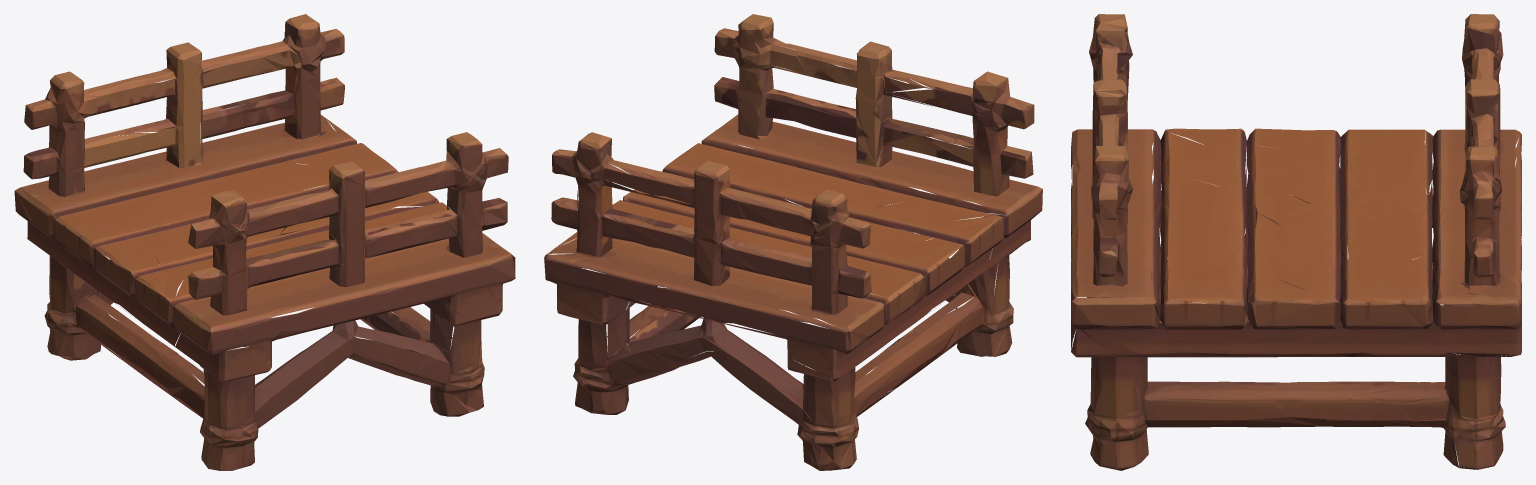
Rendered from bridge.glb.
3 views of the same model, side by side, from view 1: azimuth 30°, elevation 25°; view 2: azimuth 150°, elevation 25°; view 3: azimuth 270°, elevation 25° (orthographic). The views are drawn at different scales.
Parts seen in each view (by area): view 1: geometry_0; view 2: geometry_0; view 3: geometry_0.
Boxes of the visible parts, x1,y1,x2,y2 form: geometry_0: (14,14,515,470); geometry_0: (544,14,1042,470); geometry_0: (1071,14,1521,470).
Bounding box in the file's own units: 1.85 × 1.53 × 2.
Materials: 1 (1 with a texture image).
